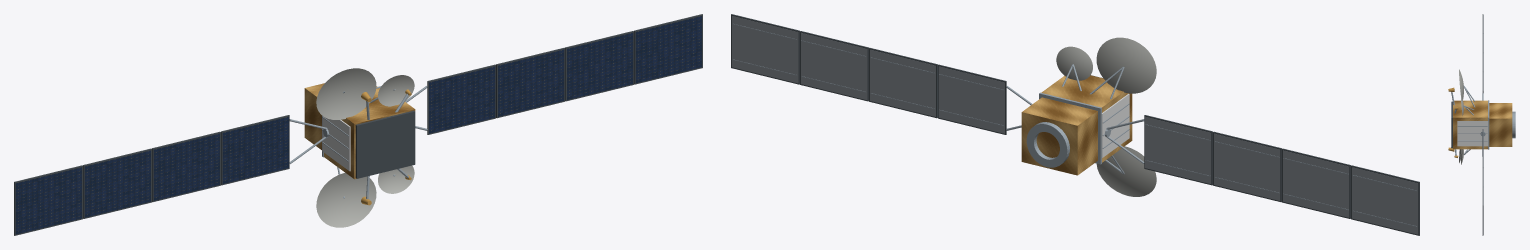
Rendered from ref-eurostar-3000eor-47306.glb.
The picture shows the model from 3 angles, left to right: view 1: azimuth 30°, elevation 25°; view 2: azimuth 150°, elevation 25°; view 3: azimuth 270°, elevation 25°; orthographic projection. The views are drawn at different scales.
Parts seen in each view (by area): view 1: Solar cell panel (×8), Communications reflector (×4), Solar panel frame (×8), Earth-facing deck, Payload module, Radiator face, Service module; view 2: Rear array substrate (×8), Communications reflector (×3), Service module, Solar panel frame (×8), Payload module, Radiator face, Launch adapter ring, Module interface; view 3: Service module, Payload module, Radiator face, Launch adapter ring, Communications reflector, Module interface, Solar panel frame, Earth-facing deck, Radiator seam, Rear array substrate.
Boxes of the visible parts, left/top/right/bottom form: Solar cell panel (×8): left=15, top=16, right=701, bottom=234; Communications reflector (×4): left=316, top=68, right=414, bottom=227; Solar panel frame (×8): left=14, top=14, right=702, bottom=235; Earth-facing deck: left=355, top=110, right=415, bottom=178; Payload module: left=324, top=88, right=415, bottom=179; Radiator face: left=322, top=116, right=350, bottom=171; Service module: left=304, top=83, right=377, bottom=149; Rear array substrate (×8): left=732, top=16, right=1418, bottom=234; Communications reflector (×3): left=1056, top=37, right=1156, bottom=196; Service module: left=1021, top=97, right=1097, bottom=175; Solar panel frame (×8): left=731, top=14, right=1419, bottom=235; Payload module: left=1041, top=75, right=1132, bottom=162; Radiator face: left=1101, top=93, right=1129, bottom=157; Launch adapter ring: left=1026, top=122, right=1069, bottom=167; Module interface: left=1039, top=92, right=1101, bottom=164; Service module: left=1489, top=103, right=1512, bottom=146; Payload module: left=1453, top=100, right=1487, bottom=149; Radiator face: left=1457, top=121, right=1488, bottom=146; Launch adapter ring: left=1512, top=111, right=1515, bottom=138; Communications reflector: left=1459, top=69, right=1463, bottom=99; Module interface: left=1488, top=100, right=1489, bottom=149; Solar panel frame: left=1482, top=186, right=1483, bottom=235; Earth-facing deck: left=1451, top=101, right=1452, bottom=148; Radiator seam: left=1458, top=140, right=1487, bottom=141; Rear array substrate: left=1483, top=187, right=1483, bottom=234.
Size of the model in its own units: 33.97 by 7.43 by 5.03.
8 materials, 2 textured.
